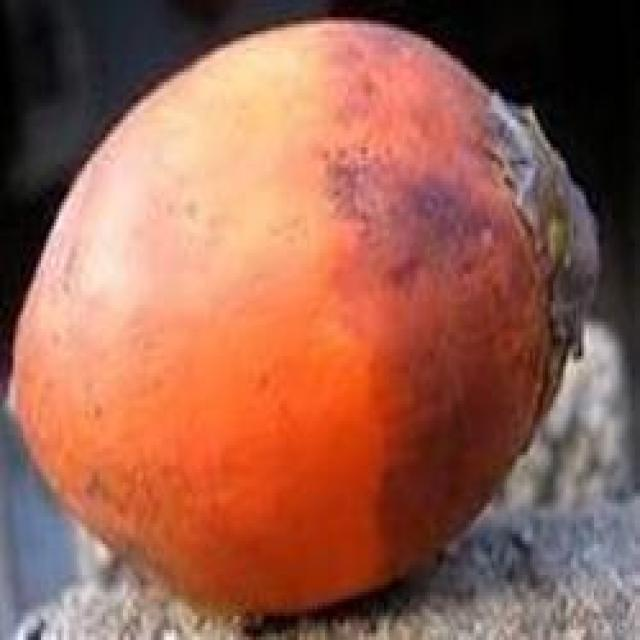good: (5, 21, 602, 637)
